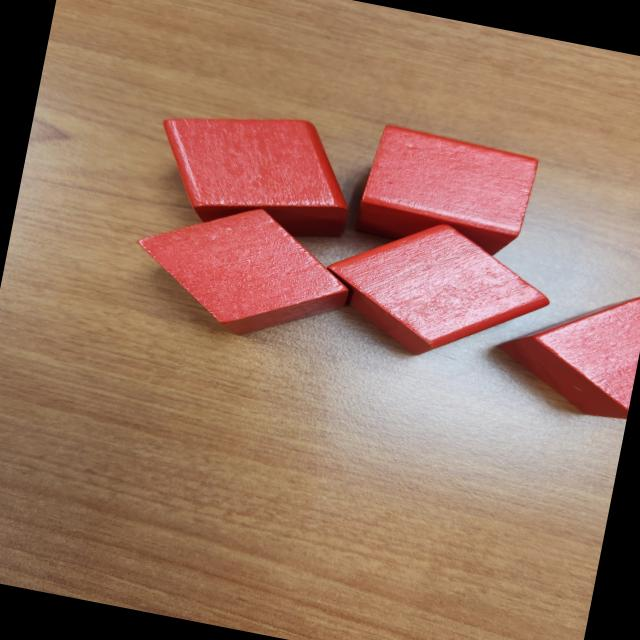red: (313, 202, 564, 381), (118, 185, 367, 358), (142, 92, 366, 248), (348, 118, 542, 262), (495, 264, 640, 427)
